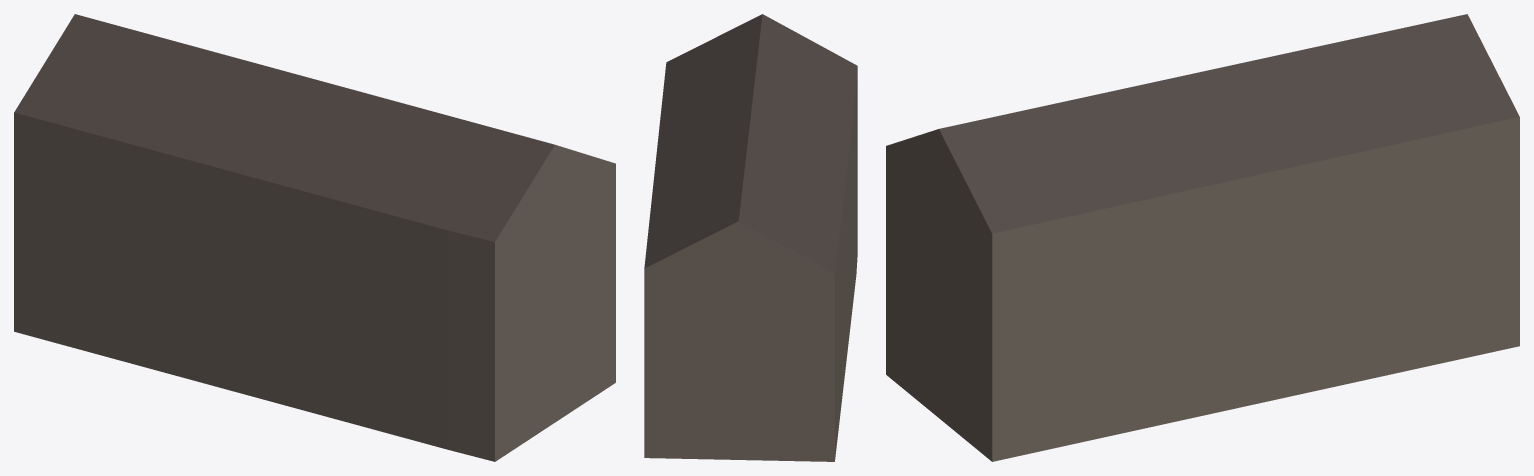
3 views of the same model, side by side, from view 1: azimuth 30°, elevation 25°; view 2: azimuth 150°, elevation 25°; view 3: azimuth 270°, elevation 25° (orthographic). The views are drawn at different scales.
Visible parts, largest first — view 1: HP-w1198846691; view 2: HP-w1198846691; view 3: HP-w1198846691.
Boxes of the visible parts, bbox=[...] form: HP-w1198846691: bbox=[14, 14, 615, 461]; HP-w1198846691: bbox=[644, 14, 857, 461]; HP-w1198846691: bbox=[886, 14, 1519, 461].
Bounding box in the file's own units: 11.42 × 7.61 × 15.1.
